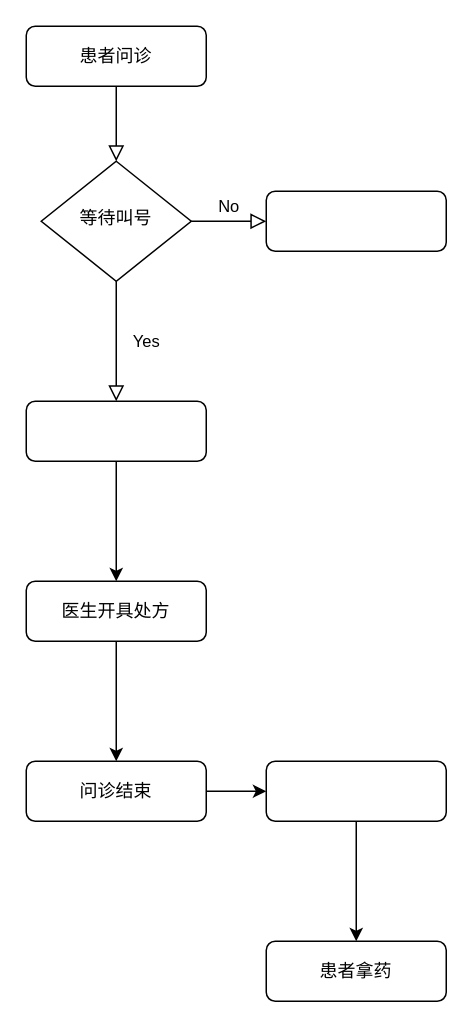
This 473x1028 diagram has some shape labels left out. Each missing label, with the centre of its shape:
"医生接诊" belongs at [115,430].
"药师审核发药" belongs at [355,790].
"问诊超时" belongs at [355,220].
